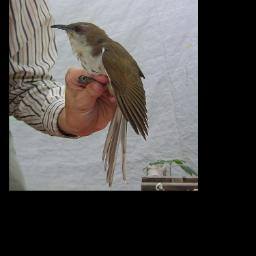Cuckoo: (49, 20, 148, 184)
